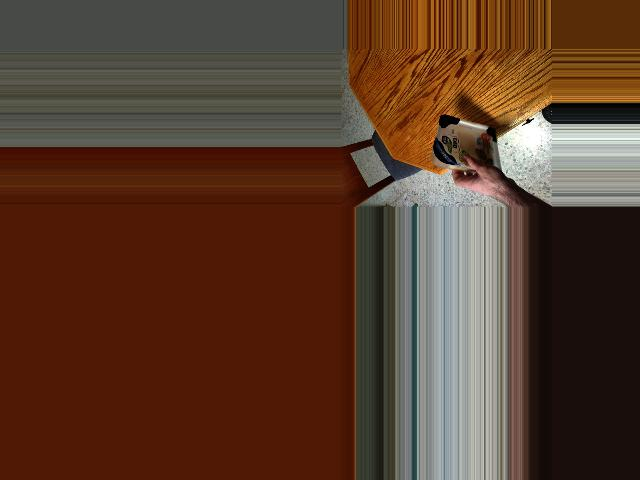cheese: (428, 119, 509, 170)
